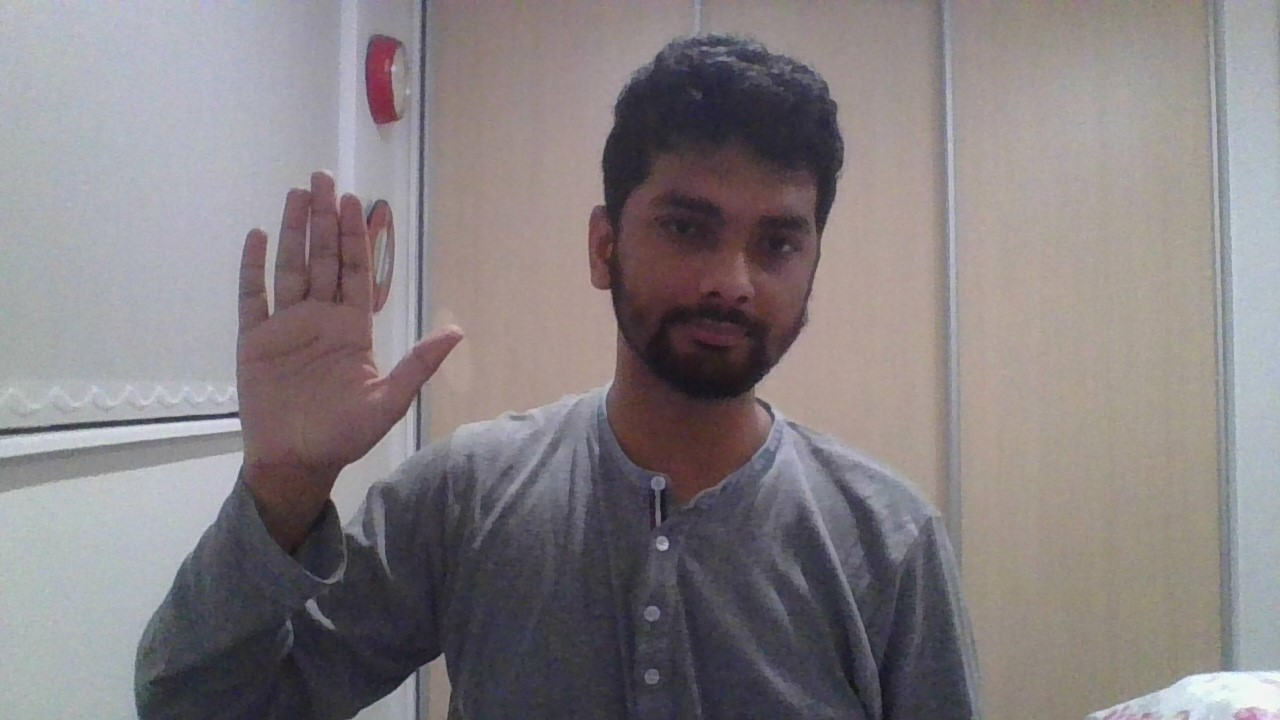hello: (238, 171, 464, 467)
